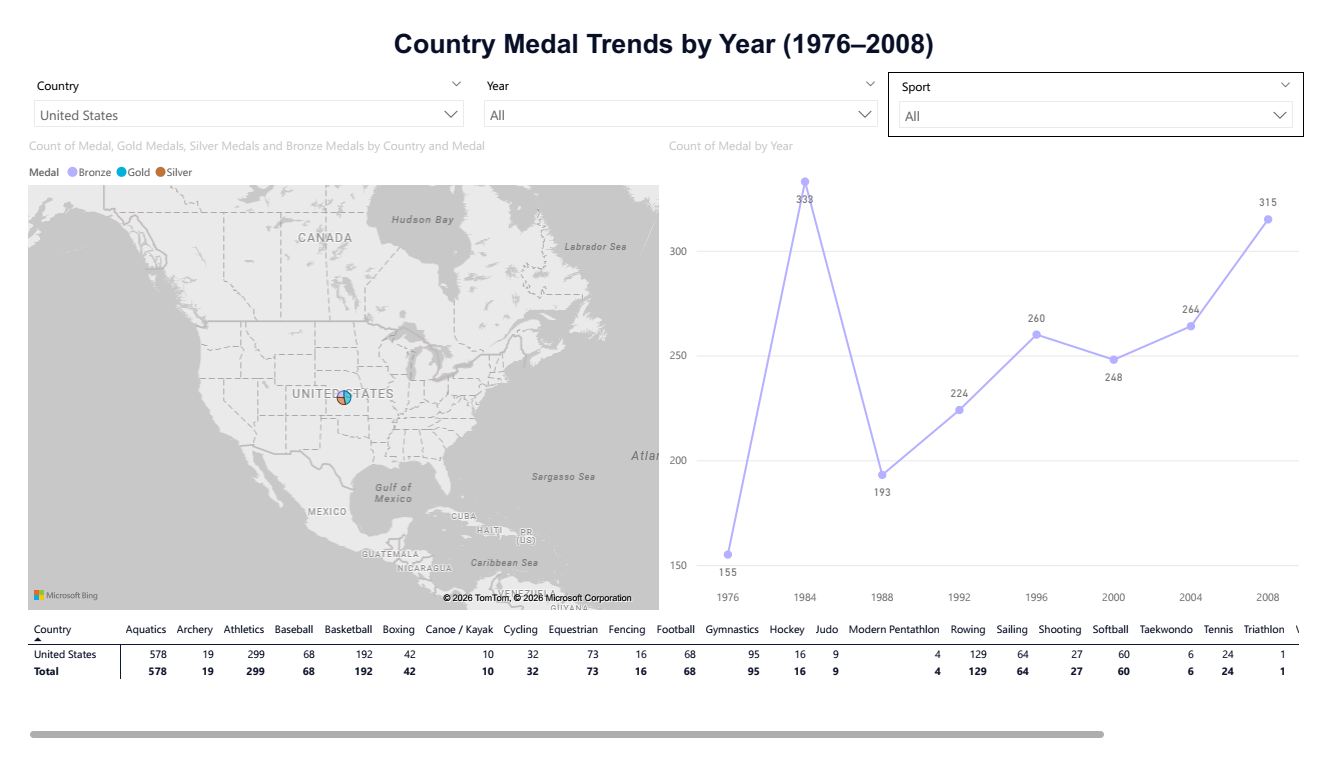

This screenshot's page, from the dashboard's own definition file:
{"tool":"powerbi","page":{"name":"Dashboard- 2","canvas":[1280,720],"ordinal":1},"visuals":[{"type":"slicer","fields":{"Values":["Summer-Olympic-medals-1976-to-2008.Country"]},"box":[0.5,47.7,450,65.4],"z":0},{"type":"slicer","fields":{"Values":["Summer-Olympic-medals-1976-to-2008.Year"]},"box":[450.4,47.7,413.9,65.4],"z":1000},{"type":"slicer","fields":{"Values":["Summer-Olympic-medals-1976-to-2008.Sport"]},"box":[864.3,47.7,416.1,65.4],"z":2000},{"type":"pivotTable","fields":{"Rows":["Summer-Olympic-medals-1976-to-2008.Country"],"Columns":["Summer-Olympic-medals-1976-to-2008.Sport"],"Values":["CountNonNull(Summer-Olympic-medals-1976-to-2008.Medal)"]},"box":[0,591.4,1280,128.4],"z":3000},{"type":"map","fields":{"Category":["Summer-Olympic-medals-1976-to-2008.Country"],"Size":["CountNonNull(Summer-Olympic-medals-1976-to-2008.Medal)"],"Series":["Summer-Olympic-medals-1976-to-2008.Medal"]},"box":[0,112.8,640,478.5],"z":4000},{"type":"lineChart","fields":{"Category":["Summer-Olympic-medals-1976-to-2008.Year"],"Y":["CountNonNull(Summer-Olympic-medals-1976-to-2008.Medal)"]},"box":[640,112.8,640,478.5],"z":5000},{"type":"textbox","box":[0,0,1280,47.7],"z":6000}]}

Visuals, with their boxes in screenshot pixels (x1, y1, x2, y2), scaled from the page's 1280x720 canvas onto the 1328x768 screenshot:
slicer - Summer-Olympic-medals-1976-to-2008.Country: x1=1, y1=51, x2=467, y2=121
slicer - Summer-Olympic-medals-1976-to-2008.Year: x1=467, y1=51, x2=897, y2=121
slicer - Summer-Olympic-medals-1976-to-2008.Sport: x1=897, y1=51, x2=1327, y2=121
pivotTable - Summer-Olympic-medals-1976-to-2008.Country x Summer-Olympic-medals-1976-to-2008.Sport: x1=0, y1=631, x2=1327, y2=767
map - Summer-Olympic-medals-1976-to-2008.Country x CountNonNull(Summer-Olympic-medals-1976-to-2008.Medal): x1=0, y1=120, x2=664, y2=631
lineChart - Summer-Olympic-medals-1976-to-2008.Year x CountNonNull(Summer-Olympic-medals-1976-to-2008.Medal): x1=664, y1=120, x2=1327, y2=631
textbox: x1=0, y1=0, x2=1327, y2=51
